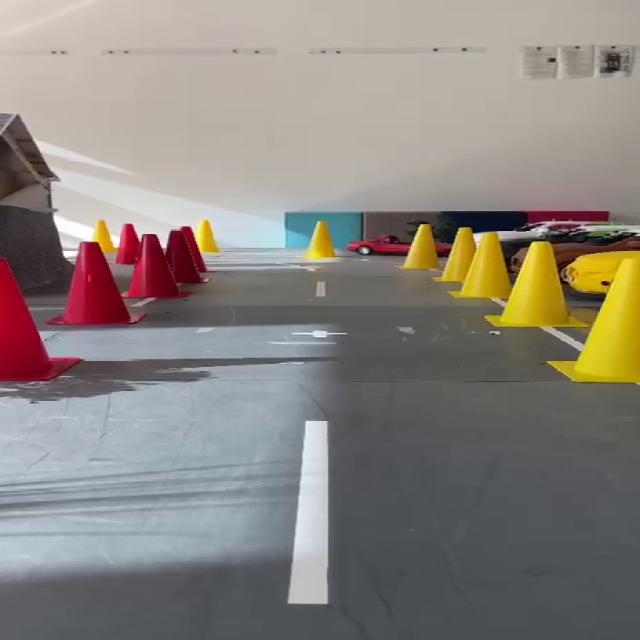Cone-red: (0, 258, 79, 380), (48, 242, 143, 324), (123, 234, 186, 298), (166, 230, 206, 285), (116, 224, 139, 265)
Cones-yellow: (549, 259, 639, 383), (486, 242, 588, 327), (451, 233, 510, 300), (436, 228, 474, 282), (401, 225, 439, 269), (303, 221, 335, 259), (197, 220, 219, 253)
